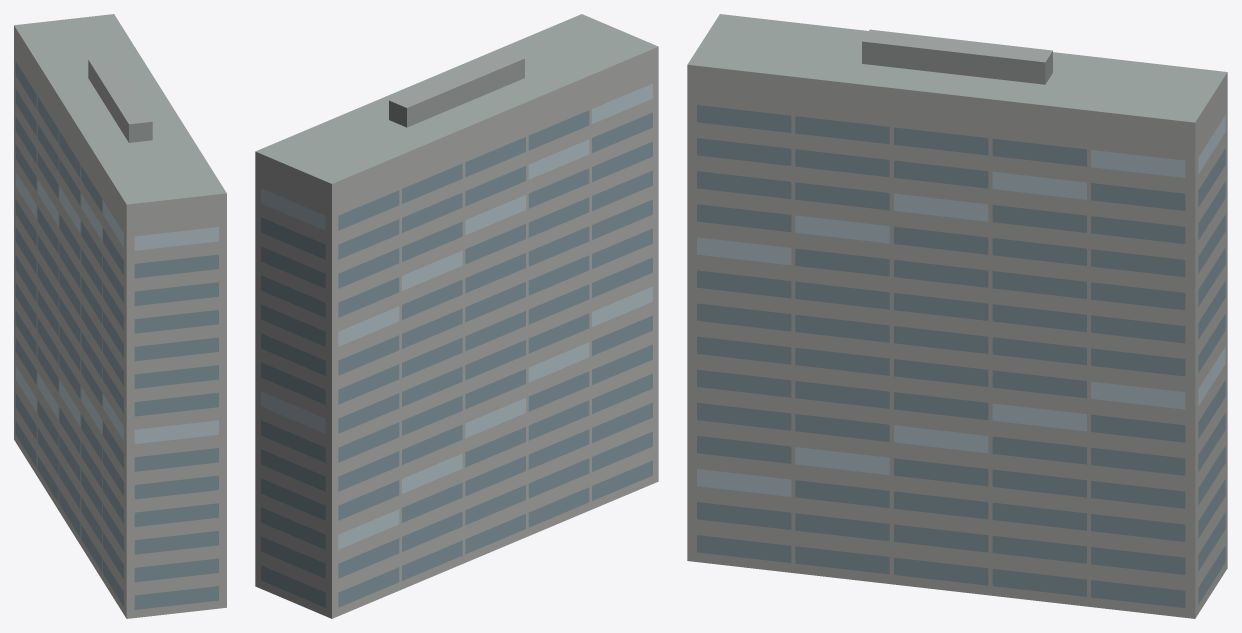
Rendered from fallback-olympic-park-foreon-430.glb.
The picture shows the model from 3 angles, left to right: view 1: azimuth 30°, elevation 25°; view 2: azimuth 150°, elevation 25°; view 3: azimuth 270°, elevation 25°; orthographic projection. The views are drawn at different scales.
Parts seen in each view (by area): view 1: fallback-olympic-park-foreon-430; view 2: fallback-olympic-park-foreon-430; view 3: fallback-olympic-park-foreon-430.
Part boxes in pixels (bbox=[...]): fallback-olympic-park-foreon-430: bbox=[14, 14, 226, 618]; fallback-olympic-park-foreon-430: bbox=[255, 14, 658, 618]; fallback-olympic-park-foreon-430: bbox=[687, 14, 1227, 618].
Size of the model in its own units: 21.48 by 47.81 by 45.13.
